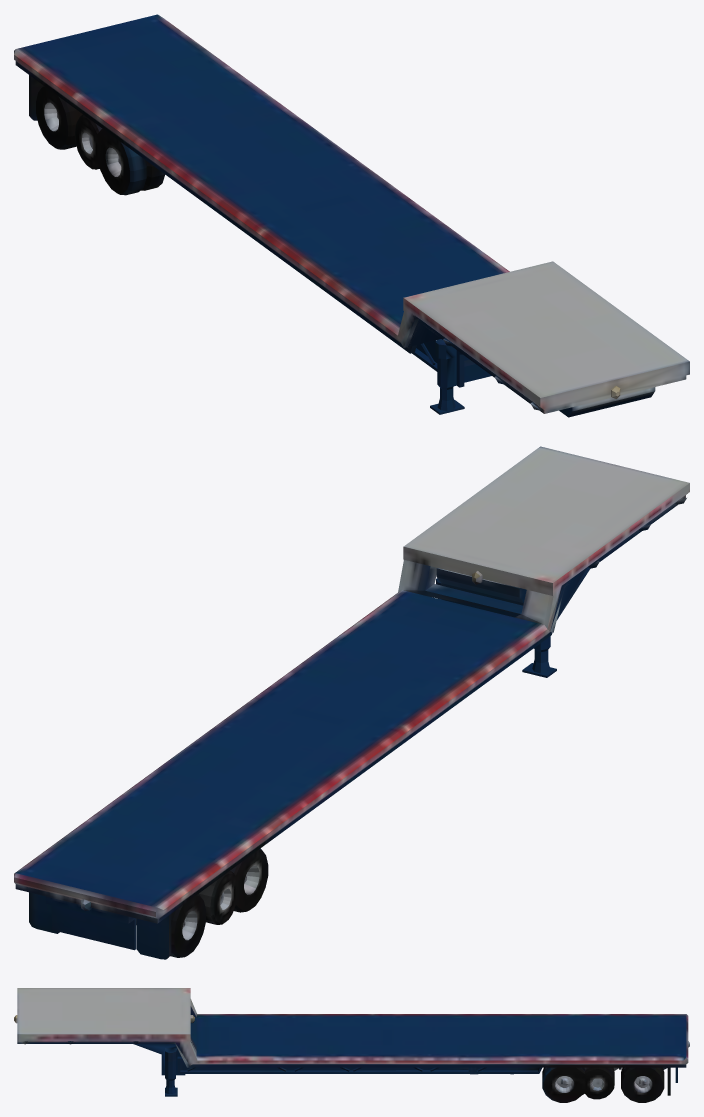
File: ultra_dropdeck3d.glb
3 renders of one model, top to bottom at view 1: azimuth 30°, elevation 25°; view 2: azimuth 150°, elevation 25°; view 3: azimuth 270°, elevation 25°, orthographic. The views are drawn at different scales.
Parts seen in each view (by area): view 1: texture_pbr_v128; view 2: texture_pbr_v128; view 3: texture_pbr_v128.
Boxes of the visible parts, x1,y1,x2,y2 form: texture_pbr_v128: (14,14,689,417); texture_pbr_v128: (14,446,689,959); texture_pbr_v128: (14,988,689,1102).
Size of the model in its own units: 20.18 by 13.82 by 119.
Materials: 1 (1 with a texture image).
